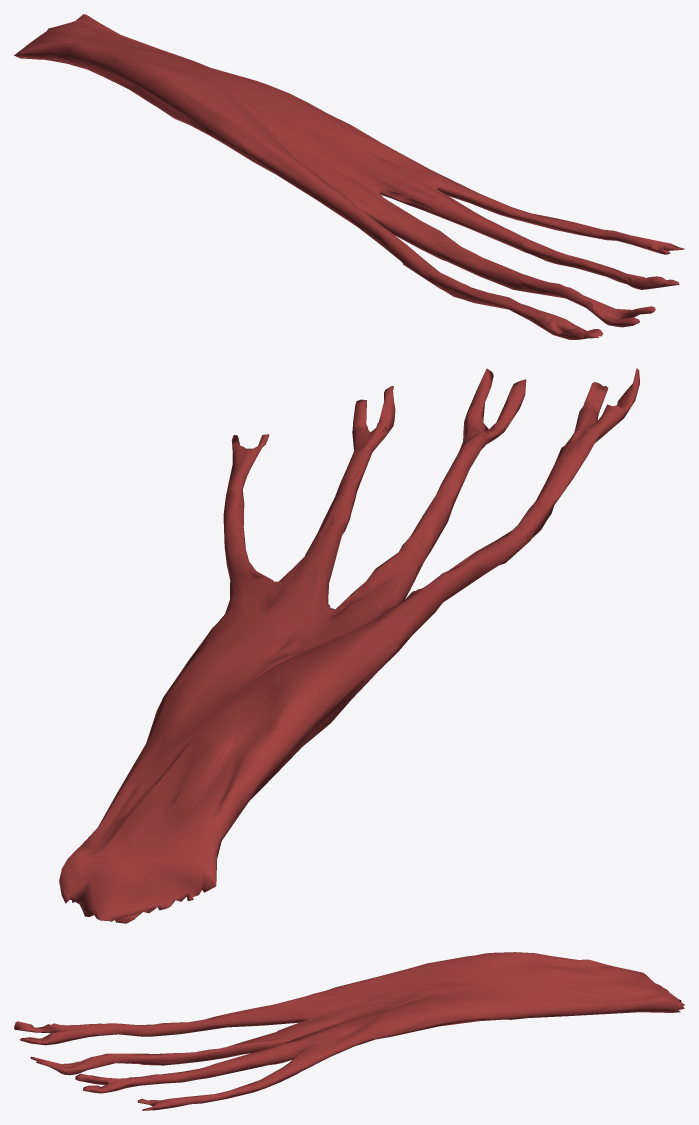
Rendered from flexor-digitorum-brevis-l.glb.
3 renders of one model, top to bottom at view 1: azimuth 30°, elevation 25°; view 2: azimuth 150°, elevation 25°; view 3: azimuth 270°, elevation 25°, orthographic. The views are drawn at different scales.
Visible parts, largest first — view 1: Flexor digitorum brevis.l; view 2: Flexor digitorum brevis.l; view 3: Flexor digitorum brevis.l.
Boxes of the visible parts, bbox=[...] form: Flexor digitorum brevis.l: bbox=[14, 14, 684, 339]; Flexor digitorum brevis.l: bbox=[59, 368, 639, 923]; Flexor digitorum brevis.l: bbox=[14, 952, 684, 1110].
Size of the model in its own units: 0.0785 by 0.02 by 0.188.
